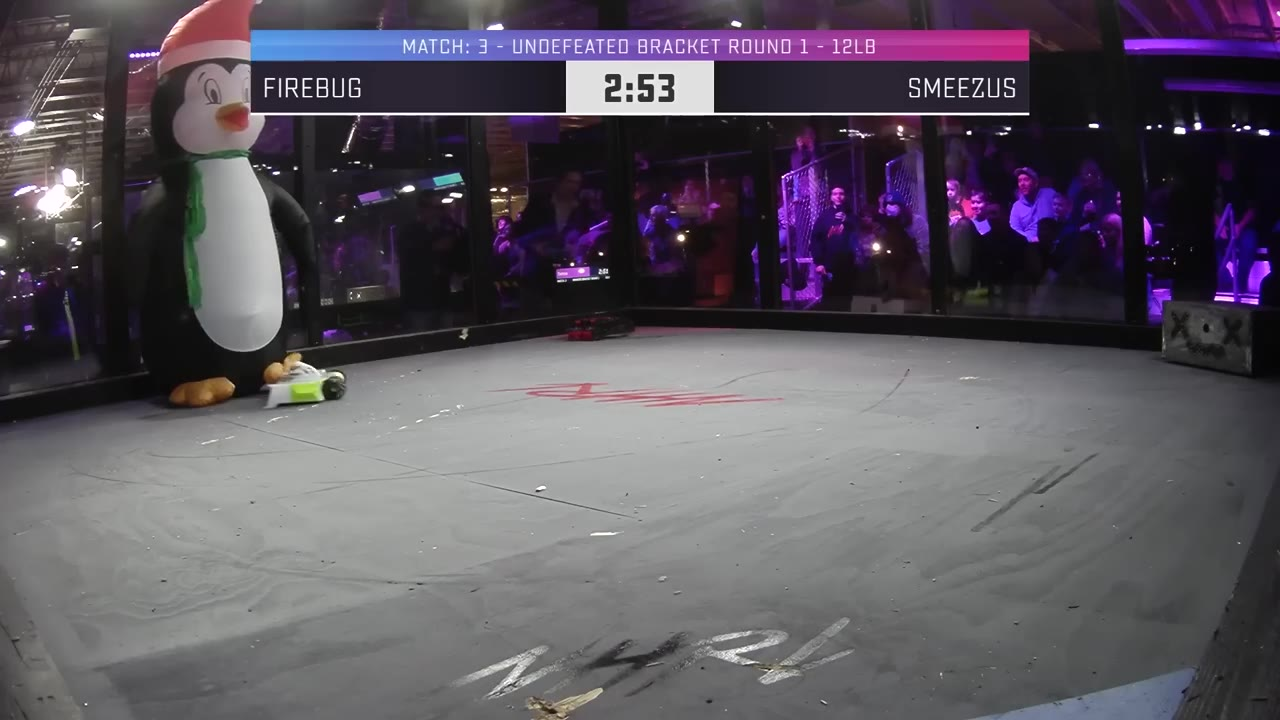combatbot: (261, 360, 349, 410), (563, 311, 637, 343)
housebot: (1159, 303, 1280, 381)
